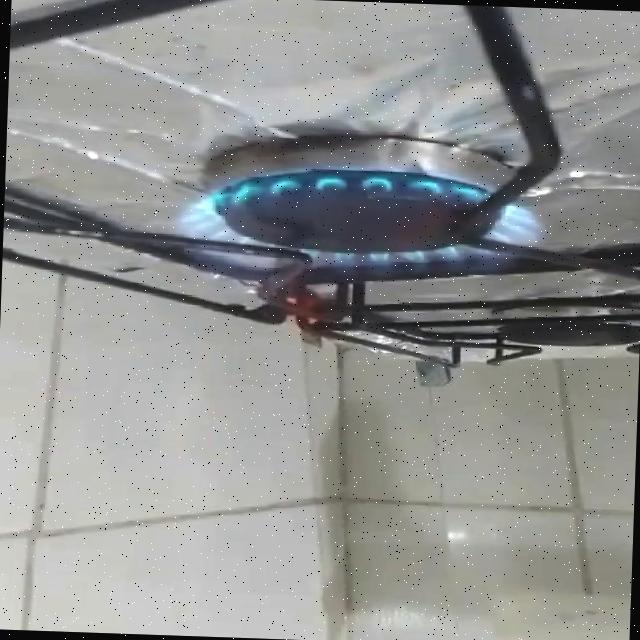fire: (176, 170, 541, 350)
